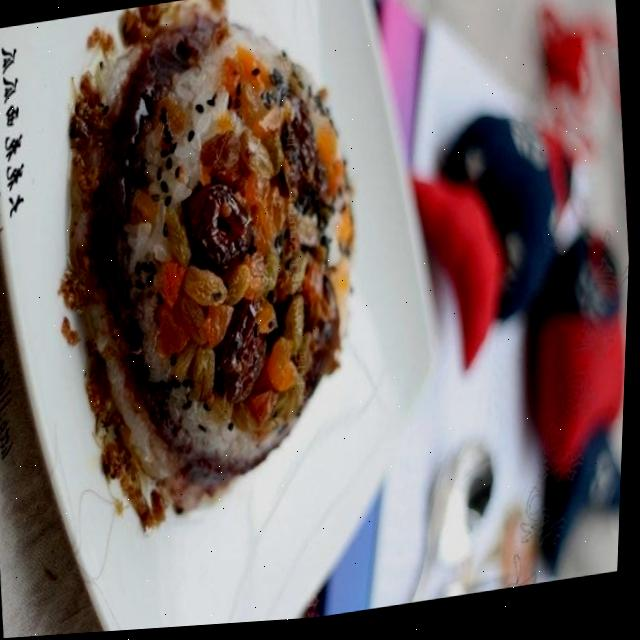米饭主食: (30, 0, 397, 524)
